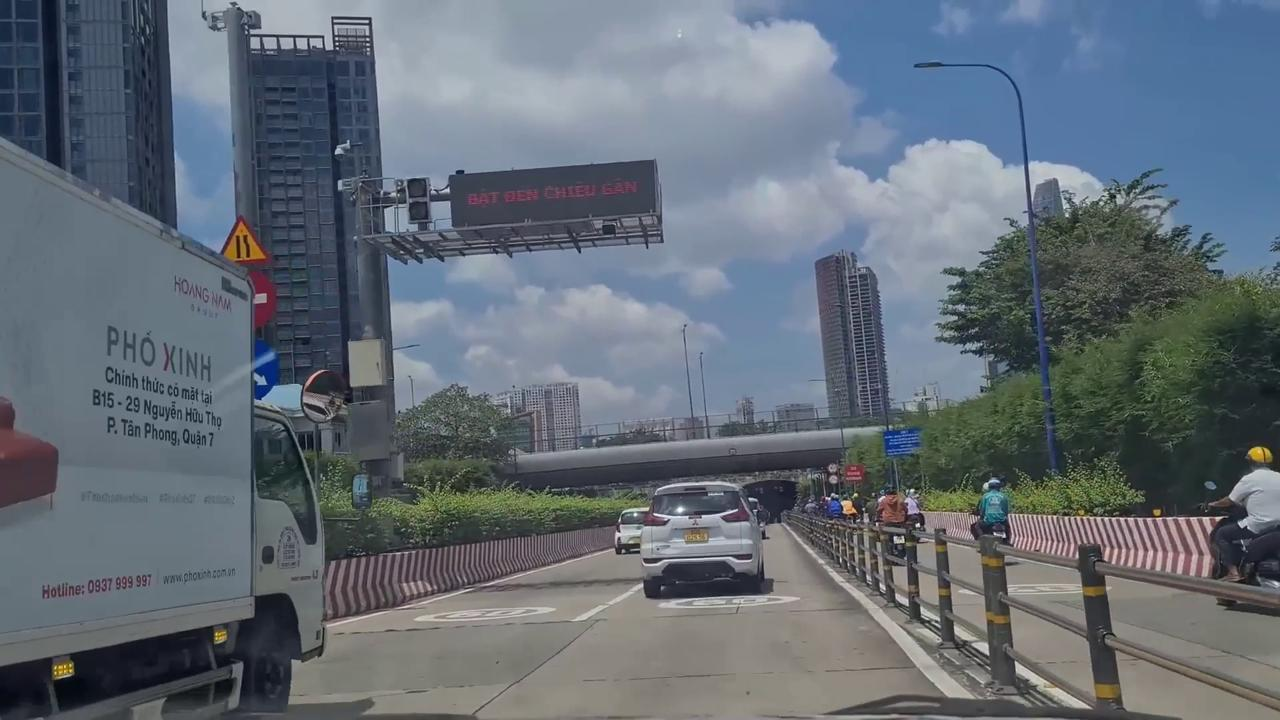Cấm đi ngược chiều: (231, 266, 280, 330)
Hướng phải đi vòng sang phải: (230, 333, 278, 404)
Đuờng hẹp: (216, 214, 270, 264)
